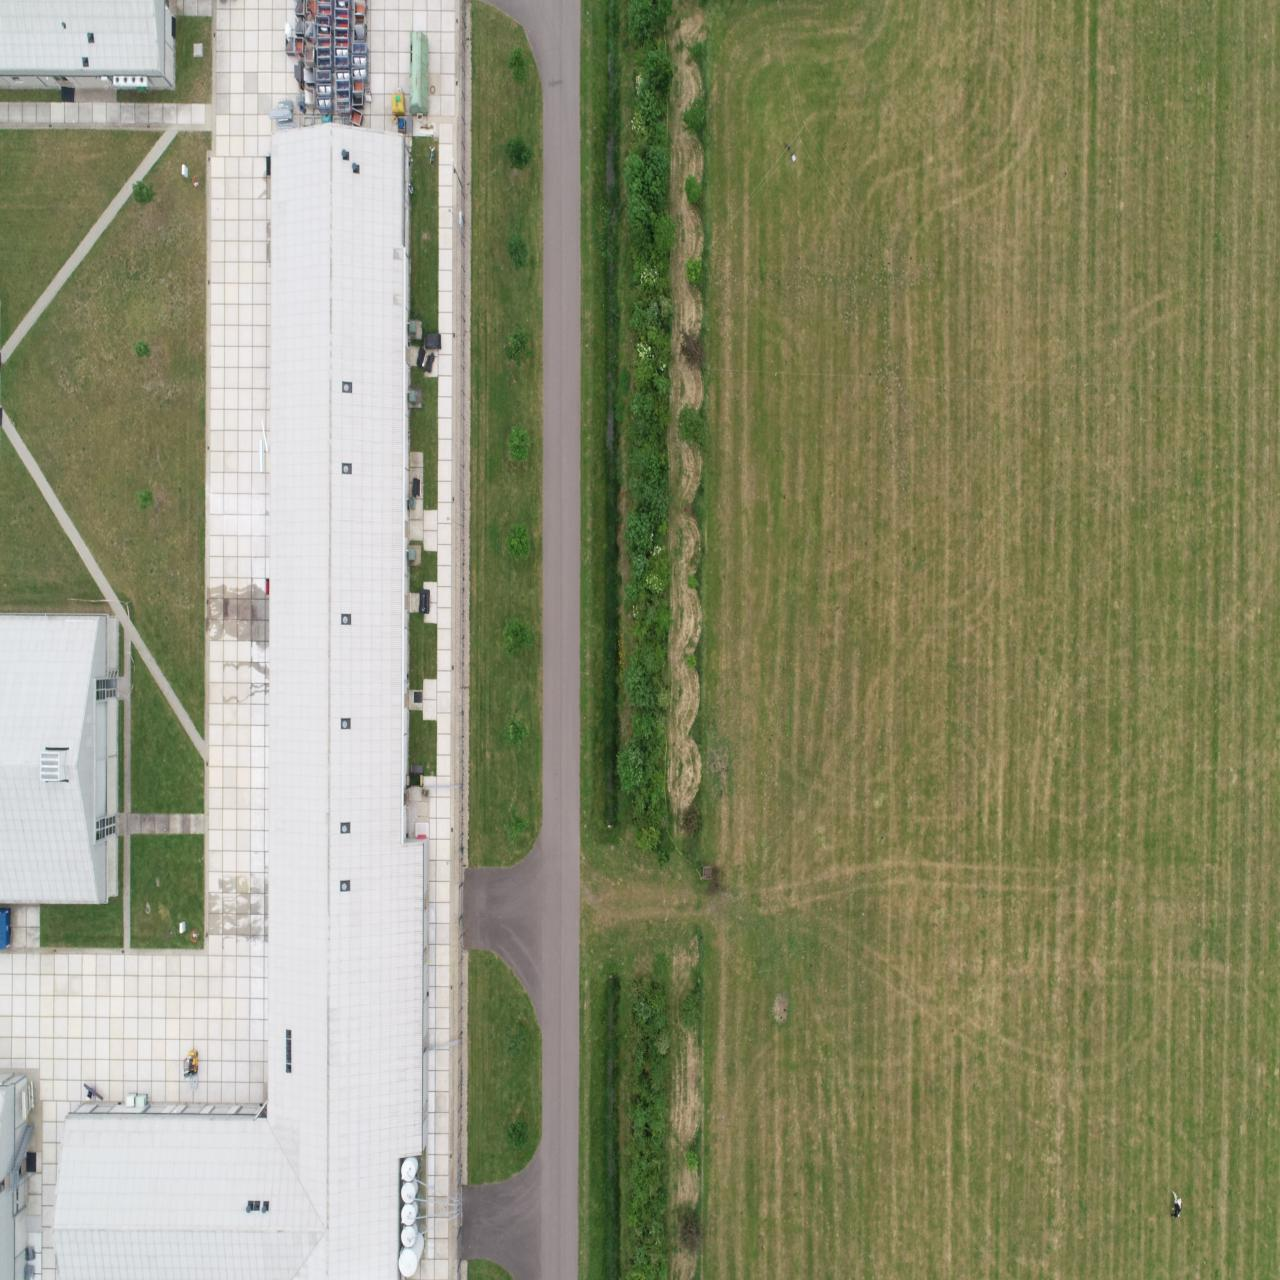cow: (1170, 1186, 1183, 1219)
